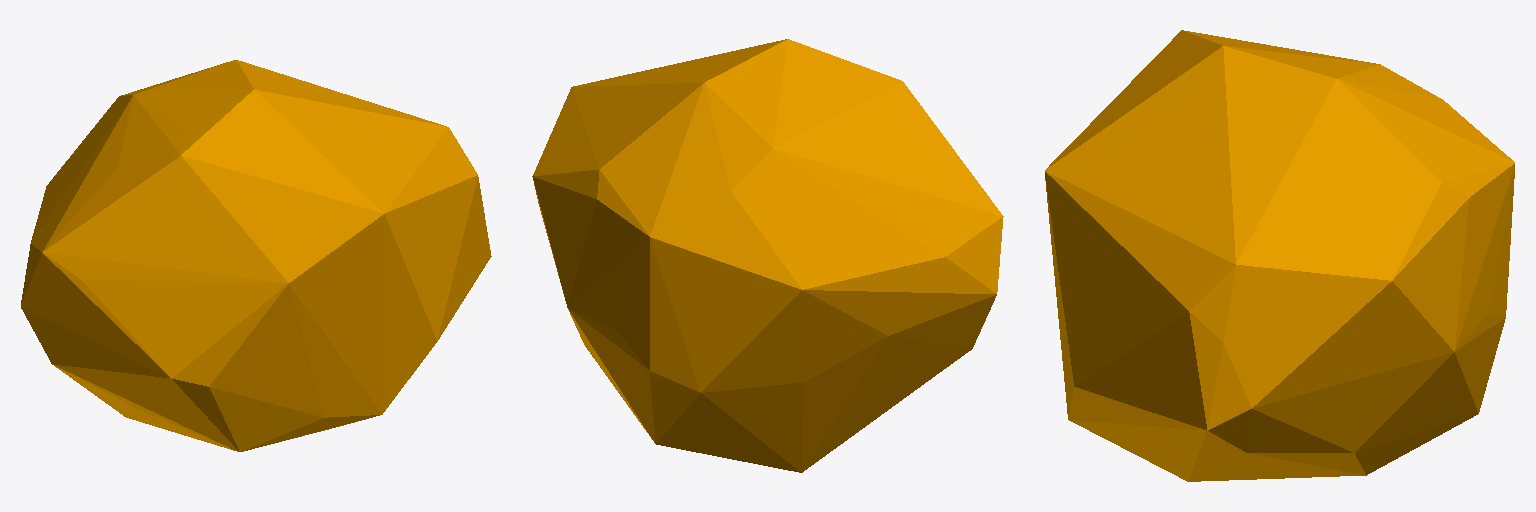
URDF robot description (054_013_6461):
<?xml version="1.0"?>
<robot name="054_013_6461">
  <link name="link">
    <contact>
      <lateral_friction value="0.6"/>
    </contact>
    <inertial>
      <mass value = "0.5313238878165194"/>
      <inertia ixx="0.0002814842606137817" ixy="3.452788908989742e-20" ixz="6.937110136783042e-21" iyy="0.00032592553492139187" iyz="1.2209313840738155e-19" izz="0.0003463888582246243" />
    </inertial>
    <visual name="visual">
      <geometry>
        <mesh filename="054_013_6461.obj"/>
      </geometry>
    </visual>
    <collision name="collision">
      <geometry>
        <mesh filename="054_013_6461.obj"/>
      </geometry>
    </collision>
  </link>
</robot>

--- Facts derived from the render (not from the file) ---
Views: 3 orthographic renders of the robot side by side, from view 1: azimuth 30°, elevation 25°; view 2: azimuth 150°, elevation 25°; view 3: azimuth 270°, elevation 25°.
Model 054_013_6461 with 1 links and 0 joints (none), rooted at link, posed every joint at zero.
Links seen in each view (by area): view 1: link; view 2: link; view 3: link.
Boxes of the visible links, left/top/right/bottom form: link: left=21, top=60, right=491, bottom=451; link: left=532, top=39, right=1003, bottom=472; link: left=1045, top=30, right=1514, bottom=481.
Bounding box of the posed robot: 0.0973 × 0.0764 × 0.0735 m (x, y, z).
1 mesh visuals loaded from 1 distinct referenced files (1 OBJ).
